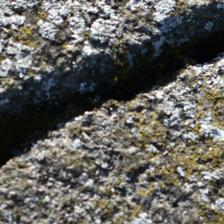Crack: (4, 8, 211, 160)
